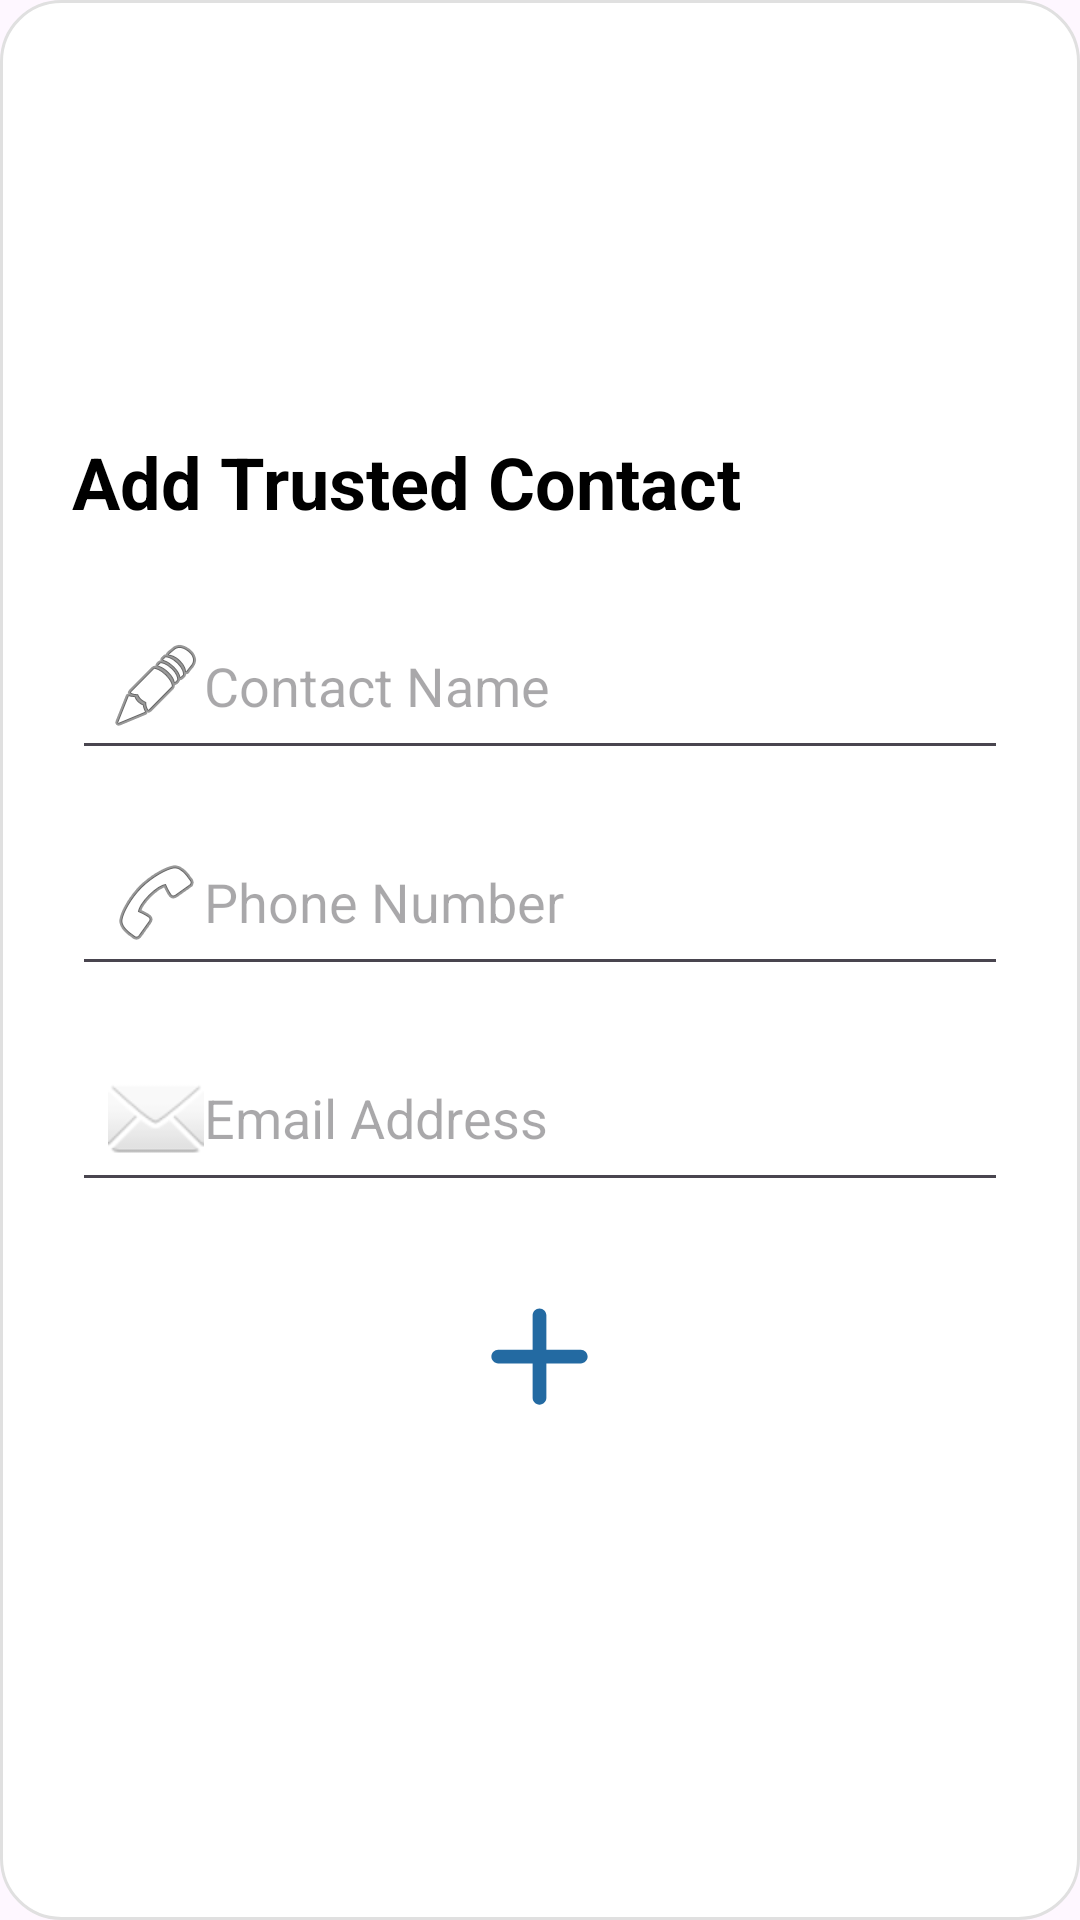

Icons on this 1080w x 1920h Android screen, each with the point to tap as point (x, y):
add: point (539, 1356)
